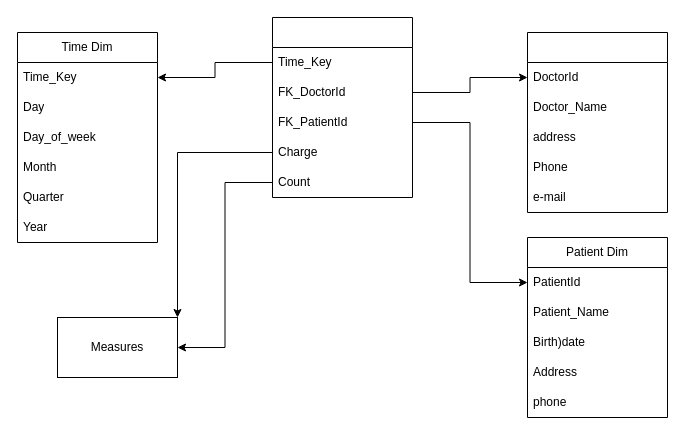
The diagram is 685 pixels wide and 435 high, and some of its shapes have lost their labels. Each missing label, with the box of its shape:
Doctor Dim: (526, 32, 668, 212)
Fact table: (272, 16, 412, 198)
